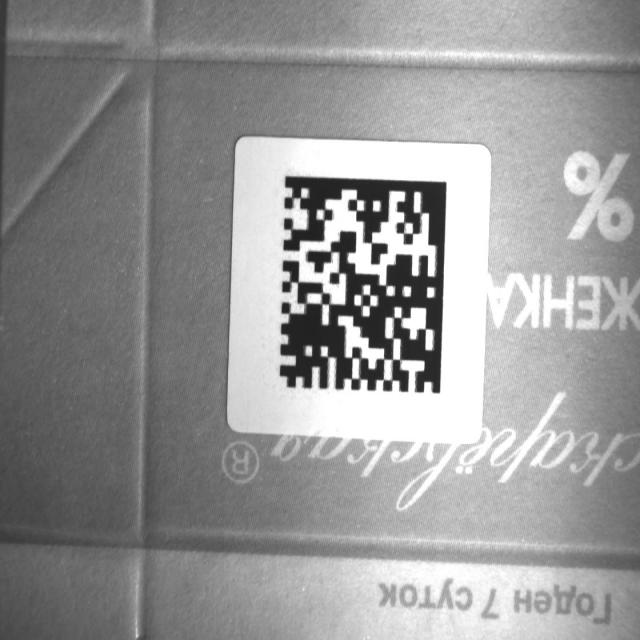datamatrix: (280, 176, 448, 395)
